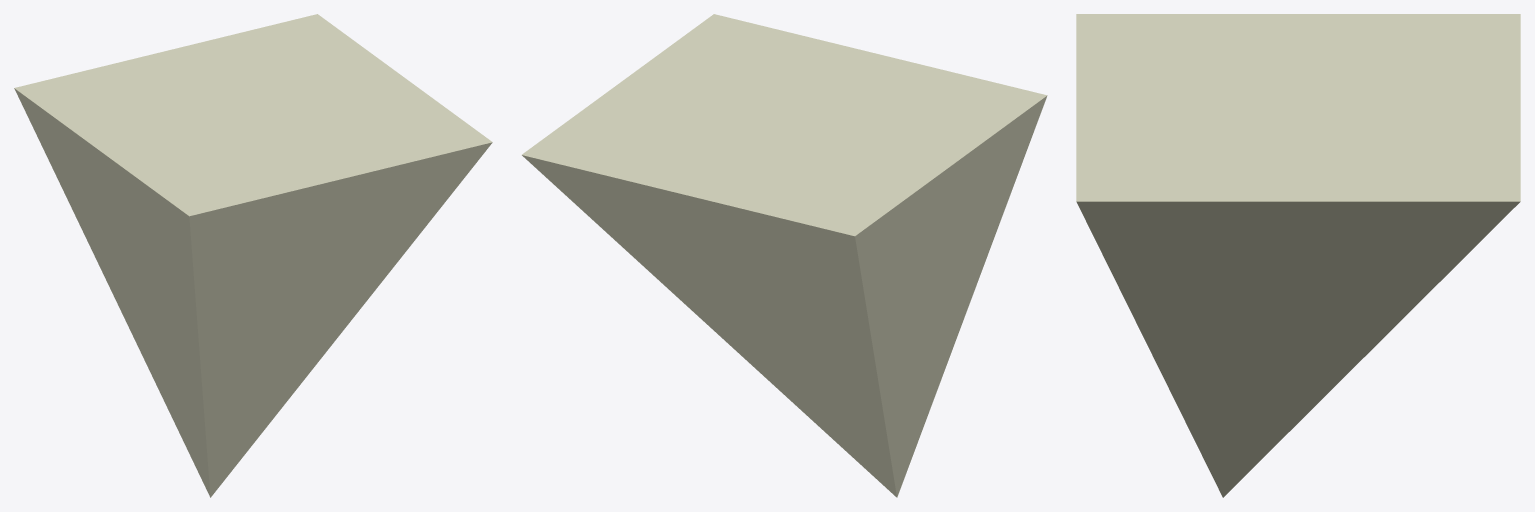
The picture shows the model from 3 angles, left to right: view 1: azimuth 30°, elevation 25°; view 2: azimuth 150°, elevation 25°; view 3: azimuth 270°, elevation 25°; orthographic projection. The views are drawn at different scales.
Parts seen in each view (by area): view 1: SketchUp; view 2: SketchUp; view 3: SketchUp.
Boxes of the visible parts, x1,y1,x2,y2 form: SketchUp: (14,14,492,497); SketchUp: (522,14,1047,497); SketchUp: (1076,14,1520,497).
Bounding box in the file's own units: 87.8 × 87.8 × 94.88.
